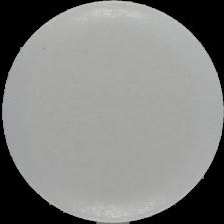51655-085: (0, 0, 224, 224)
